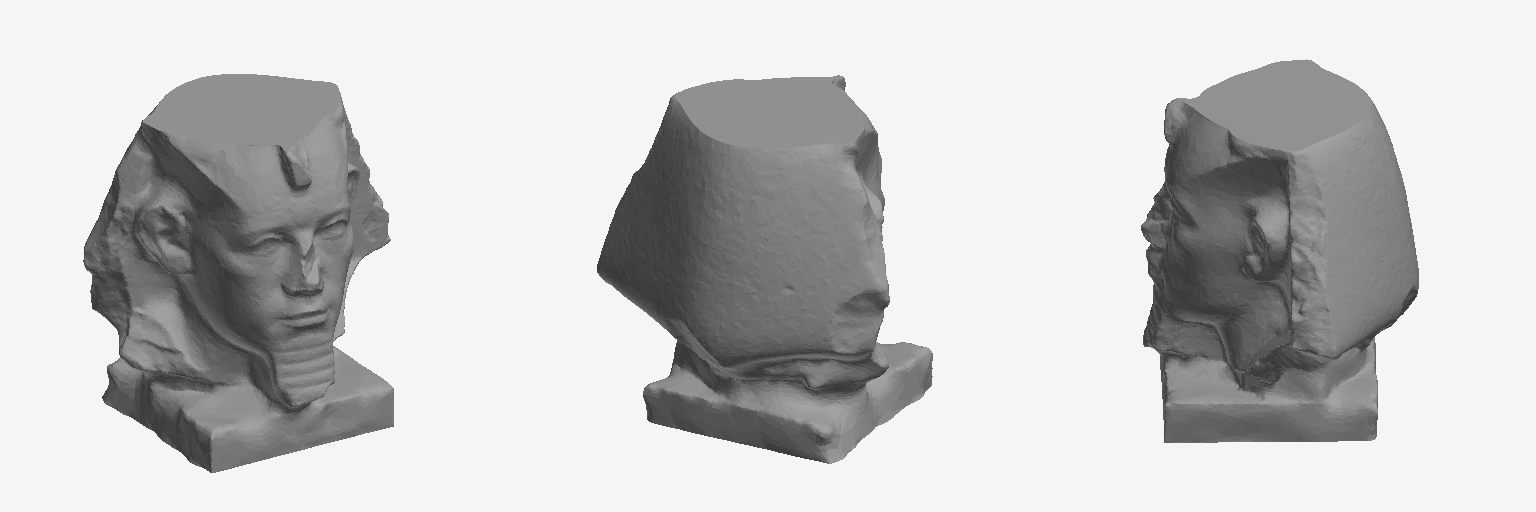
Rendered from 01amenemhat3.obj.
3 renders of one model, left to right at view 1: azimuth 30°, elevation 25°; view 2: azimuth 150°, elevation 25°; view 3: azimuth 270°, elevation 25°, orthographic.
Visible parts, largest first — view 1: sculpt; view 2: sculpt; view 3: sculpt.
Boxes of the visible parts, <box> form: sculpt: <box>83,74,393,472</box>; sculpt: <box>597,75,932,463</box>; sculpt: <box>1141,59,1418,442</box>.
Size of the model in its own units: 1.52 by 1.46 by 1.24.